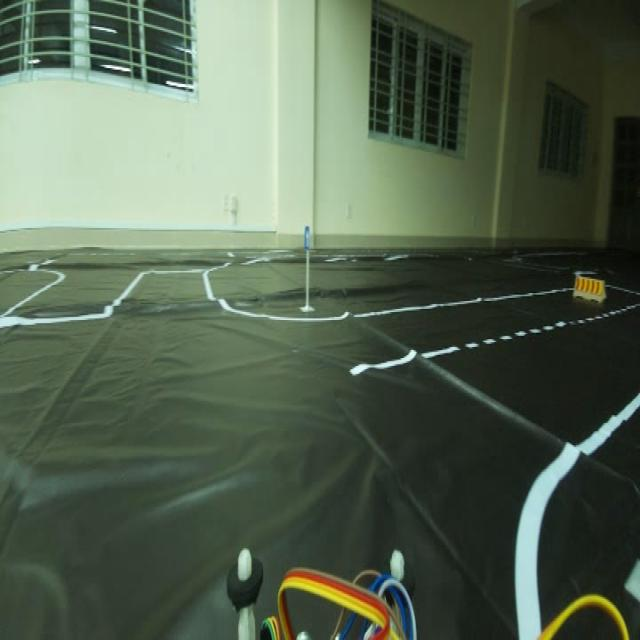onewayroad: (300, 225, 316, 250)
